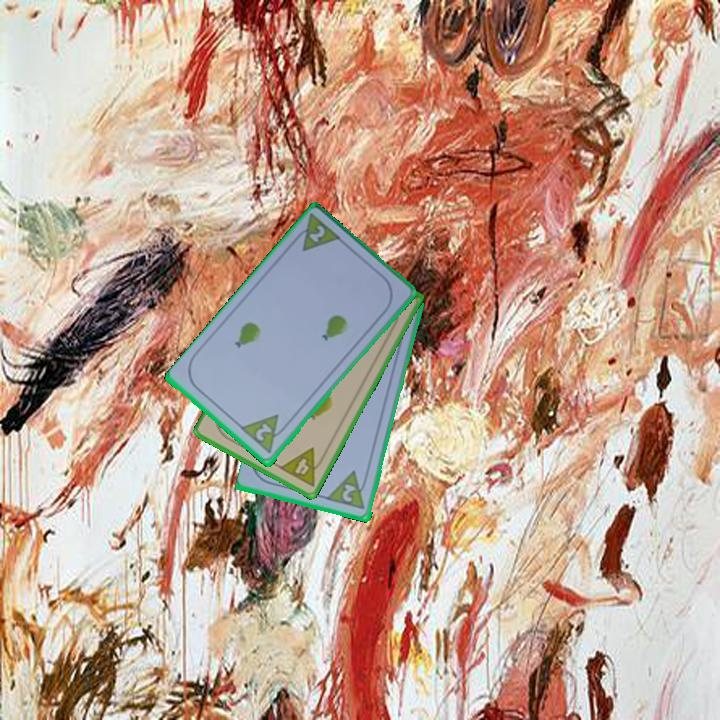2p: (325, 468, 371, 513), (252, 420, 275, 445), (305, 222, 328, 246)
4p: (276, 444, 329, 489)
